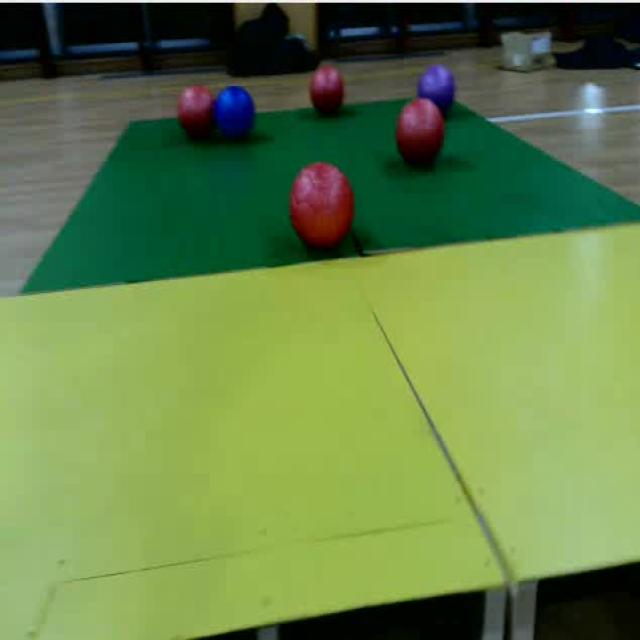blue_ball: (215, 84, 258, 146)
purple_ball: (416, 66, 458, 97)
red_ball: (288, 160, 354, 253), (392, 99, 446, 171), (175, 84, 216, 143), (306, 63, 346, 113)
